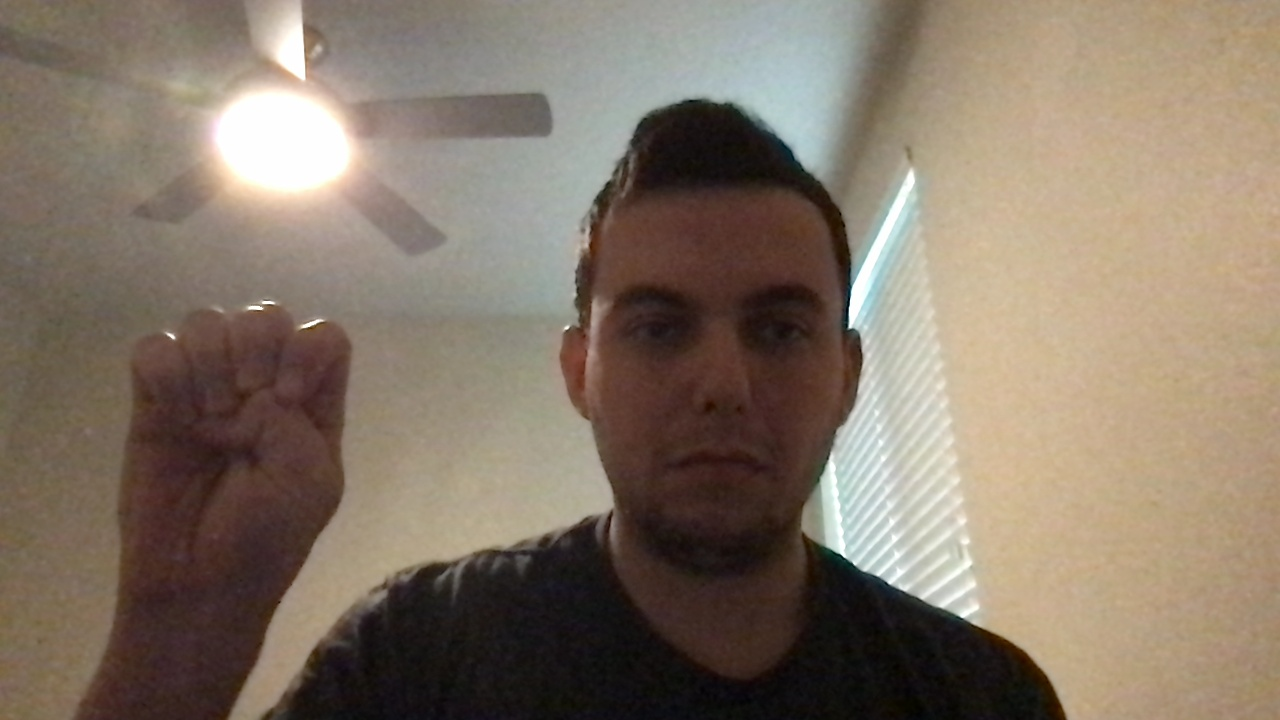e: (69, 288, 386, 607)
